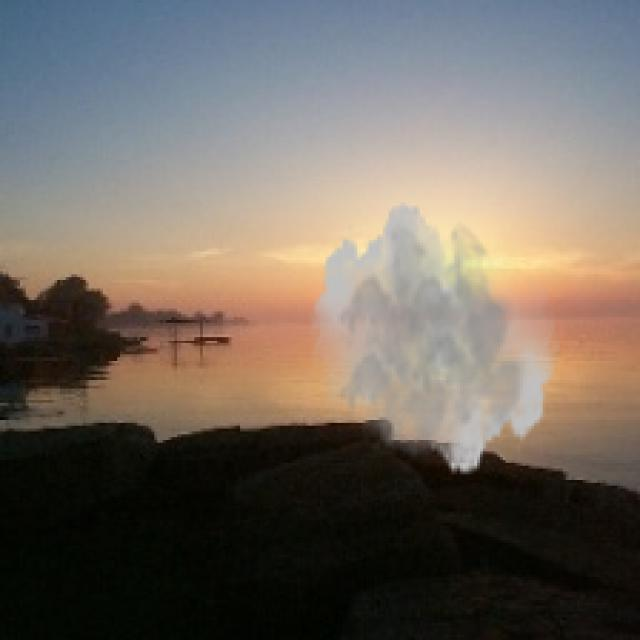smoke: (309, 200, 560, 477)
